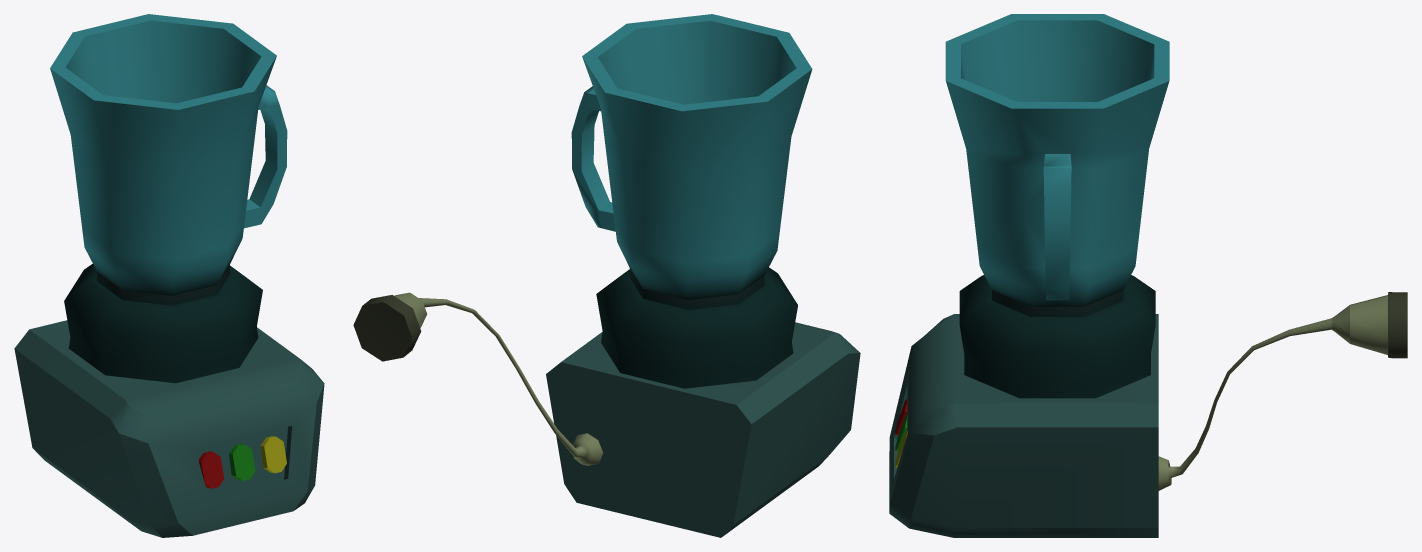
The model's file is Blender_Mesh_vca 1.fbx.
3 renders of one model, left to right at view 1: azimuth 30°, elevation 25°; view 2: azimuth 150°, elevation 25°; view 3: azimuth 270°, elevation 25°, orthographic. The views are drawn at different scales.
Parts seen in each view (by area): view 1: cup, Base, base2; view 2: cup, Base, base2; view 3: cup, Base, base2.
Boxes of the visible parts, x1=… form: cup: x1=50, y1=14, x2=287, y2=295; Base: x1=14, y1=320, x2=324, y2=537; base2: x1=64, y1=264, x2=262, y2=383; cup: x1=571, y1=14, x2=812, y2=299; Base: x1=353, y1=292, x2=860, y2=537; base2: x1=596, y1=267, x2=797, y2=388; cup: x1=945, y1=14, x2=1169, y2=306; Base: x1=889, y1=292, x2=1407, y2=537; base2: x1=959, y1=275, x2=1155, y2=398.
Size of the model in its own units: 444 by 639 by 682.
